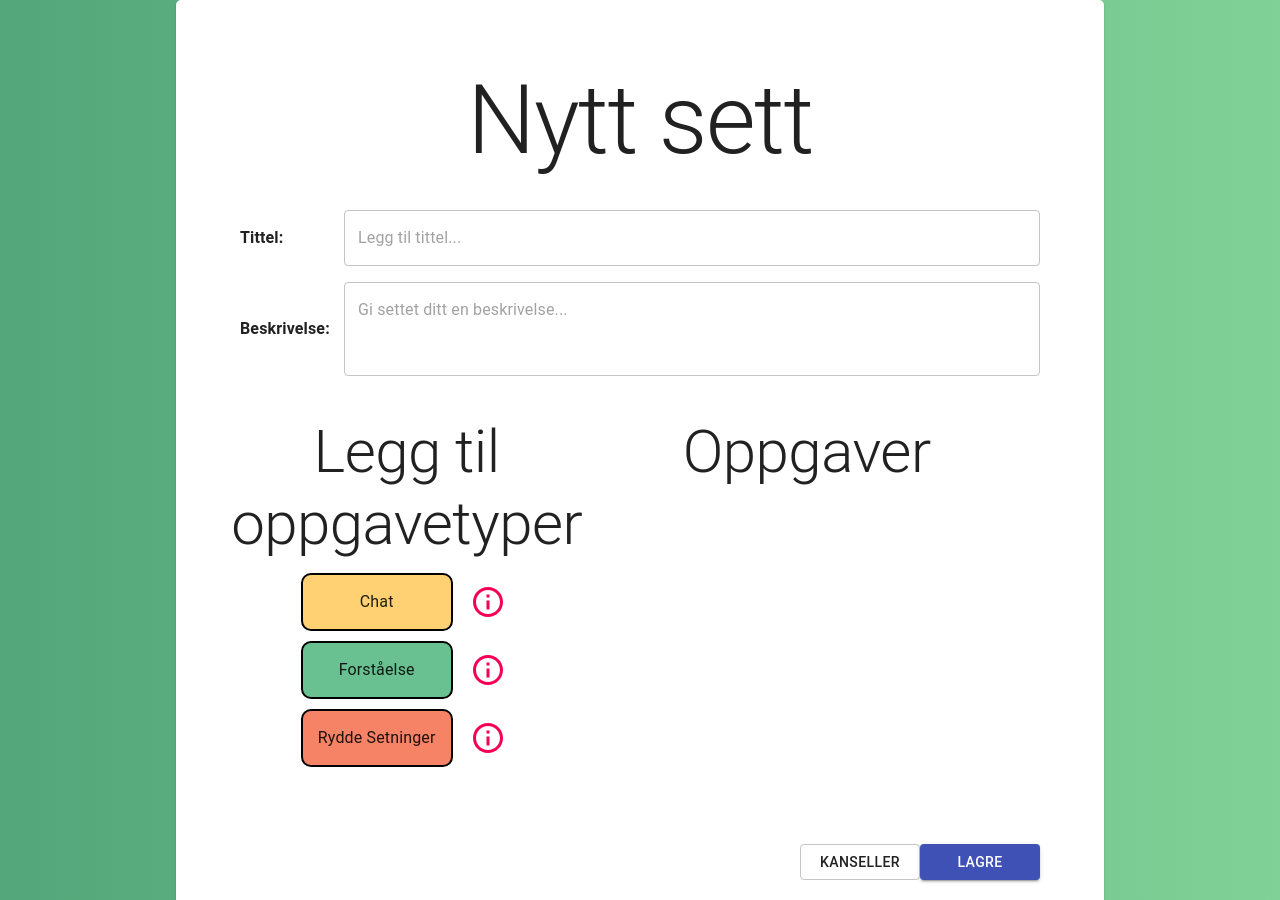
Scenario: CreateExerciseMenu component › ryddeSetningerModal opens correctly
Check: the text "Tittel:" is shown, box left=240, top=228, right=283, bottom=247
Click the button with test id "ryddeSetningerModal": {"x": 488, "y": 738} left=458, top=704, right=518, bottom=772
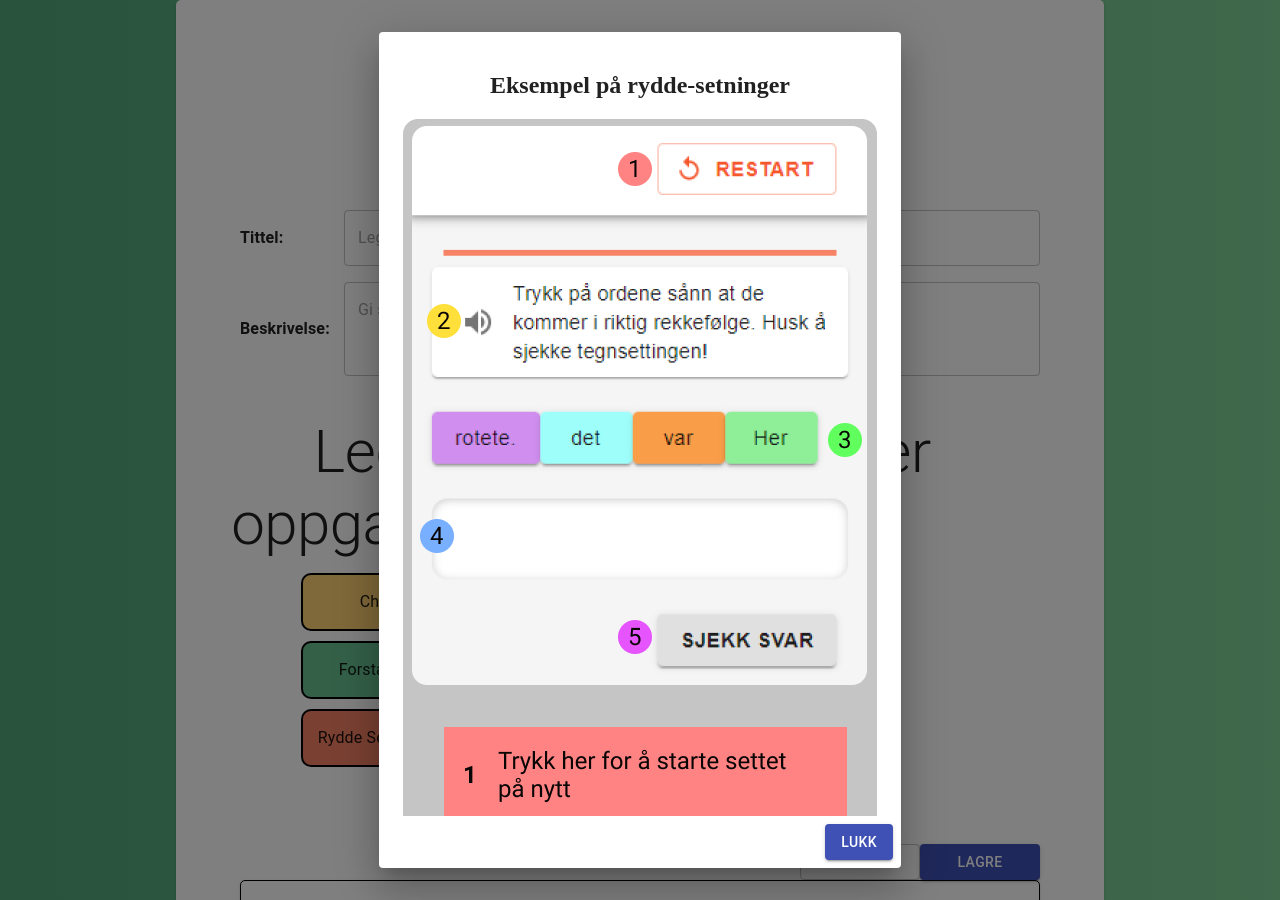
Check: the heading "Eksempel på rydde-setninger" is shown, box left=490, top=72, right=790, bottom=98
